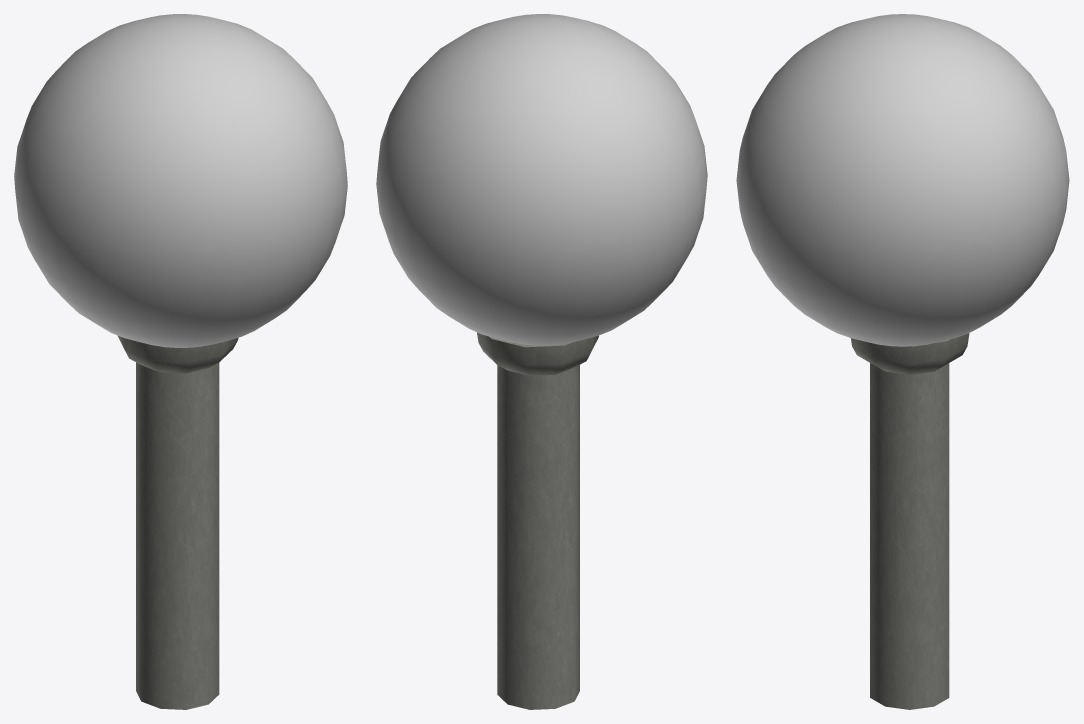
The model's file is CircleLightHead.fbx.
The picture shows the model from 3 angles, left to right: view 1: azimuth 30°, elevation 25°; view 2: azimuth 150°, elevation 25°; view 3: azimuth 270°, elevation 25°; orthographic projection.
Parts seen in each view (by area): view 1: Head; view 2: Head; view 3: Head.
Part boxes in pixels (x1=…): Head: x1=14, y1=14, x2=347, y2=709; Head: x1=376, y1=14, x2=707, y2=709; Head: x1=736, y1=14, x2=1069, y2=709.
Size of the model in its own units: 15.98 by 35.1 by 15.98.
